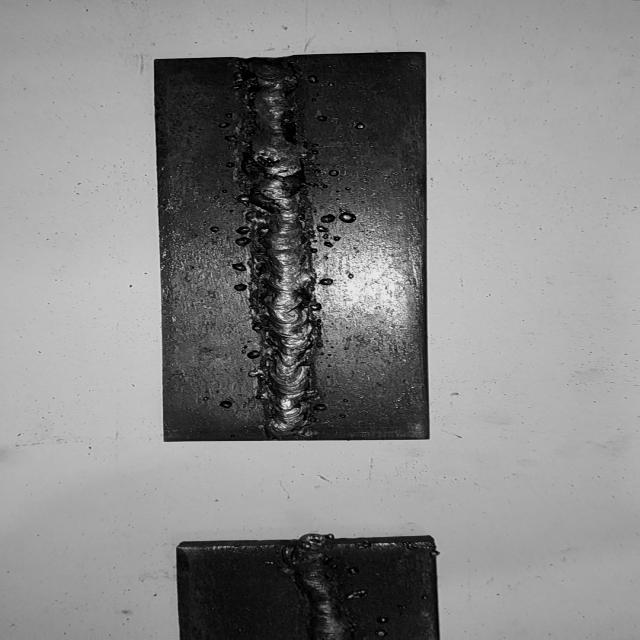Welding Line: (245, 59, 316, 433), (296, 541, 348, 640)
Workpiece: (148, 47, 436, 444), (170, 532, 443, 640)
